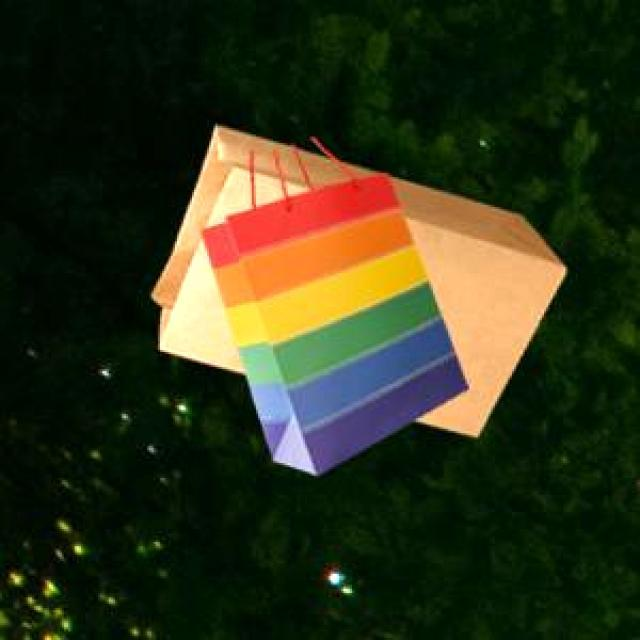Paper_Bag: (148, 122, 562, 432), (197, 172, 466, 472)
